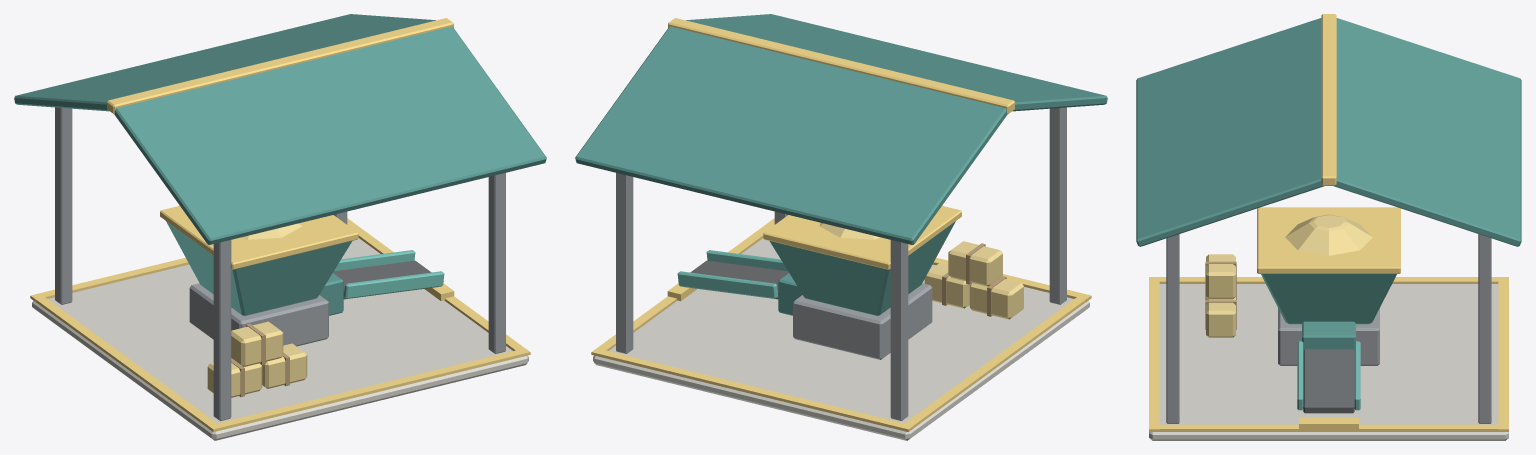
File: CollectionPoint.fbx
The picture shows the model from 3 angles, left to right: view 1: azimuth 30°, elevation 25°; view 2: azimuth 150°, elevation 25°; view 3: azimuth 270°, elevation 25°; orthographic projection.
Visible parts, largest first — view 1: CP_RoofB, CP_Base, CP_RoofA, CP_Hopper, CP_HopperRim, CP_Stand, CP_Ridge, CP_Post2, CP_Post1, CP_Post3, CP_EdgeS, CP_EdgeW (+9 smaller); view 2: CP_RoofA, CP_Base, CP_RoofB, CP_Hopper, CP_Stand, CP_HopperRim, CP_Ridge, CP_Post1, CP_Post2, CP_Post4, CP_EdgeN, CP_EdgeW (+9 smaller); view 3: CP_Base, CP_RoofA, CP_RoofB, CP_HopperRim, CP_Hopper, CP_Chute, CP_Ridge, CP_Post3, CP_Post4, CP_StrawMound, CP_EdgeE, CP_Stand (+9 smaller).
Part boxes in pixels (x1=…): CP_RoofB: x1=114, y1=26, x2=546, y2=244; CP_Base: x1=32, y1=238, x2=528, y2=440; CP_RoofA: x1=14, y1=14, x2=435, y2=111; CP_Hopper: x1=166, y1=221, x2=352, y2=315; CP_HopperRim: x1=160, y1=205, x2=358, y2=269; CP_Stand: x1=189, y1=283, x2=328, y2=346; CP_Ridge: x1=107, y1=18, x2=453, y2=114; CP_Post2: x1=55, y1=107, x2=72, y2=304; CP_Post1: x1=213, y1=240, x2=231, y2=420; CP_Post3: x1=488, y1=173, x2=505, y2=353; CP_EdgeS: x1=208, y1=348, x2=530, y2=431; CP_EdgeW: x1=36, y1=297, x2=216, y2=427; CP_RoofA: x1=575, y1=26, x2=1007, y2=244; CP_Base: x1=593, y1=238, x2=1089, y2=440; CP_RoofB: x1=686, y1=14, x2=1107, y2=111; CP_Hopper: x1=769, y1=221, x2=955, y2=315; CP_Stand: x1=793, y1=283, x2=932, y2=359; CP_HopperRim: x1=763, y1=205, x2=961, y2=269; CP_Ridge: x1=668, y1=18, x2=1014, y2=114; CP_Post1: x1=1049, y1=107, x2=1066, y2=304; CP_Post2: x1=890, y1=240, x2=908, y2=420; CP_Post4: x1=616, y1=173, x2=633, y2=353; CP_EdgeN: x1=591, y1=348, x2=913, y2=431; CP_EdgeW: x1=905, y1=297, x2=1085, y2=427; CP_Base: x1=1149, y1=284, x2=1508, y2=440; CP_RoofA: x1=1333, y1=18, x2=1521, y2=246; CP_RoofB: x1=1136, y1=18, x2=1324, y2=246; CP_HopperRim: x1=1257, y1=207, x2=1400, y2=273; CP_Hopper: x1=1261, y1=274, x2=1396, y2=324; CP_Chute: x1=1303, y1=349, x2=1354, y2=413; CP_Ridge: x1=1321, y1=14, x2=1336, y2=185; CP_Post3: x1=1166, y1=234, x2=1179, y2=423; CP_Post4: x1=1478, y1=234, x2=1491, y2=423; CP_StrawMound: x1=1285, y1=214, x2=1372, y2=255; CP_EdgeE: x1=1159, y1=424, x2=1498, y2=431; CP_Stand: x1=1278, y1=308, x2=1379, y2=365.
Size of the model in its own units: 12.9 by 9.98 by 12.85.
